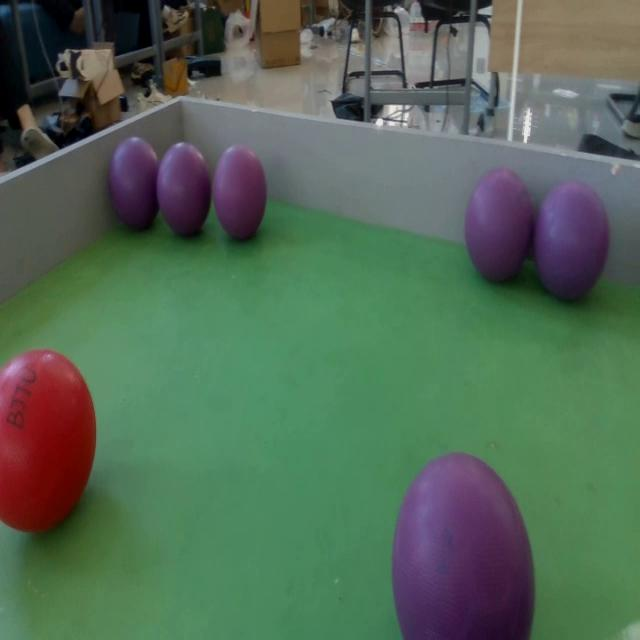invalid: (390, 452, 533, 640), (534, 182, 604, 300), (466, 162, 527, 285), (110, 133, 160, 230), (159, 139, 210, 233), (215, 144, 265, 234)
red: (0, 346, 96, 532)
